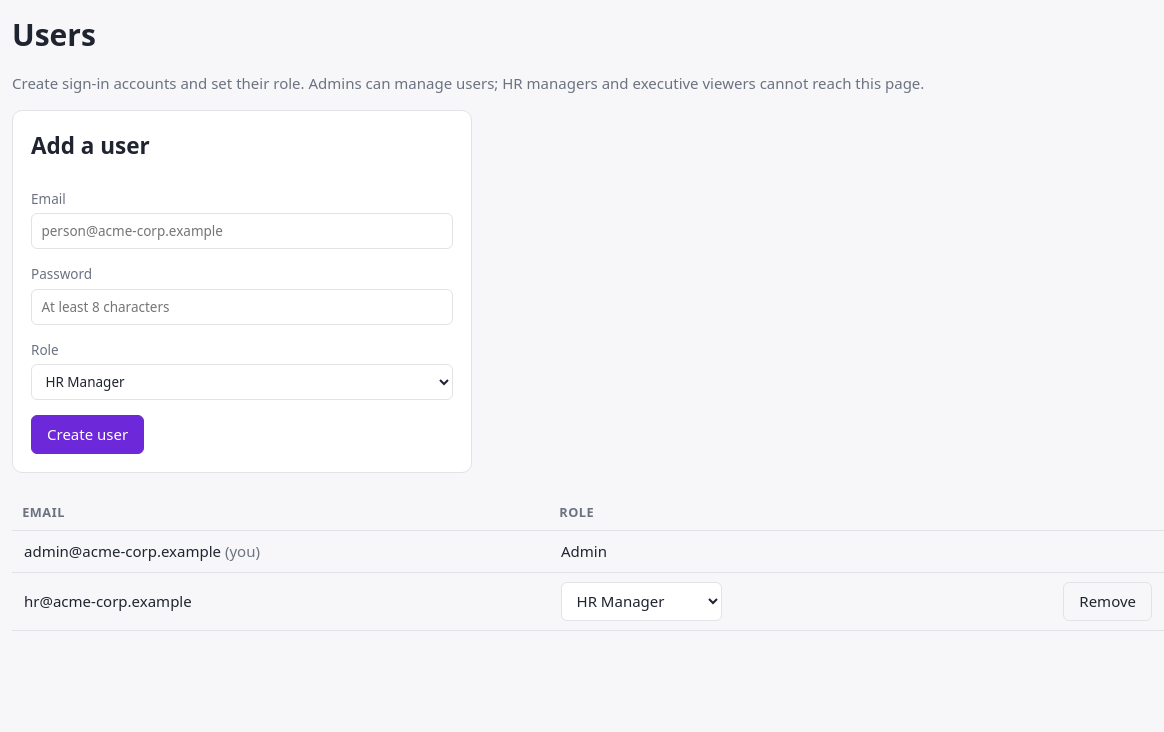
it: UsersPage › shows the backend message when a role change is rejected
Expected: the text "hr@acme-corp.example" is shown, top-left (12, 572), bottom-right (549, 631)
Select "Admin" in the dropdown named "Role for hr@acme-corp.example": (642, 601) top-left (561, 582), bottom-right (722, 621)
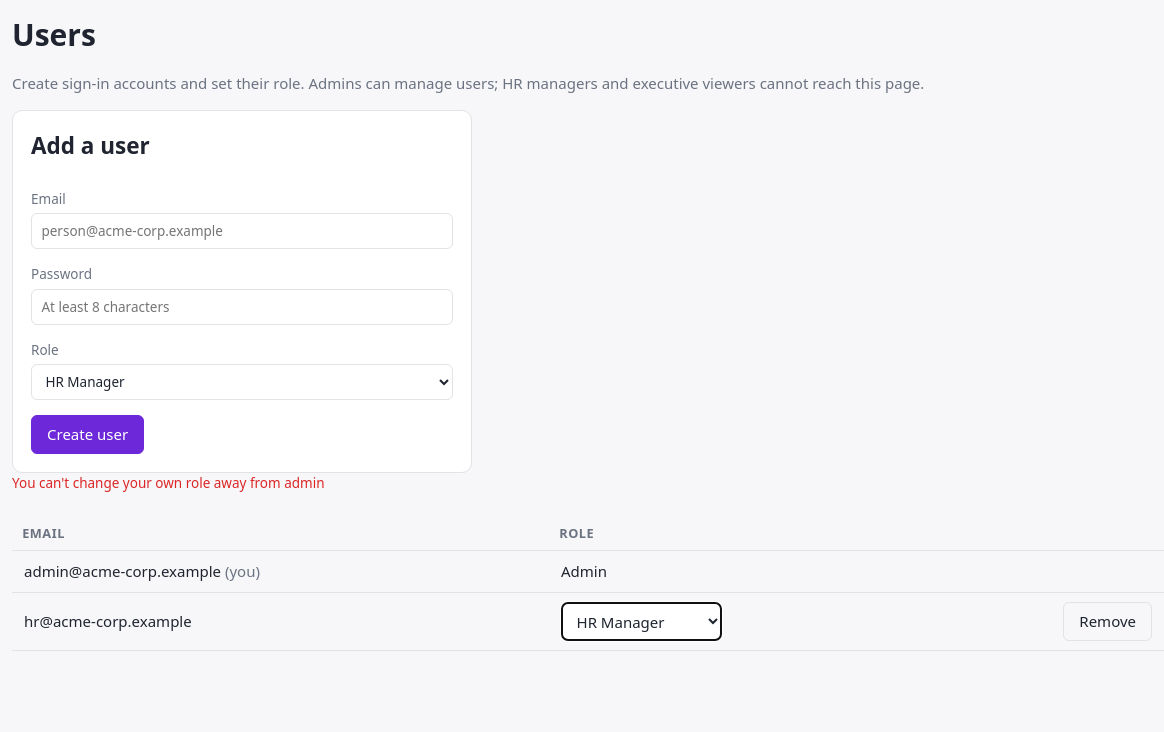
Expected: the text "You can't change your own role away from admin" is shown, top-left (12, 474), bottom-right (324, 492)
